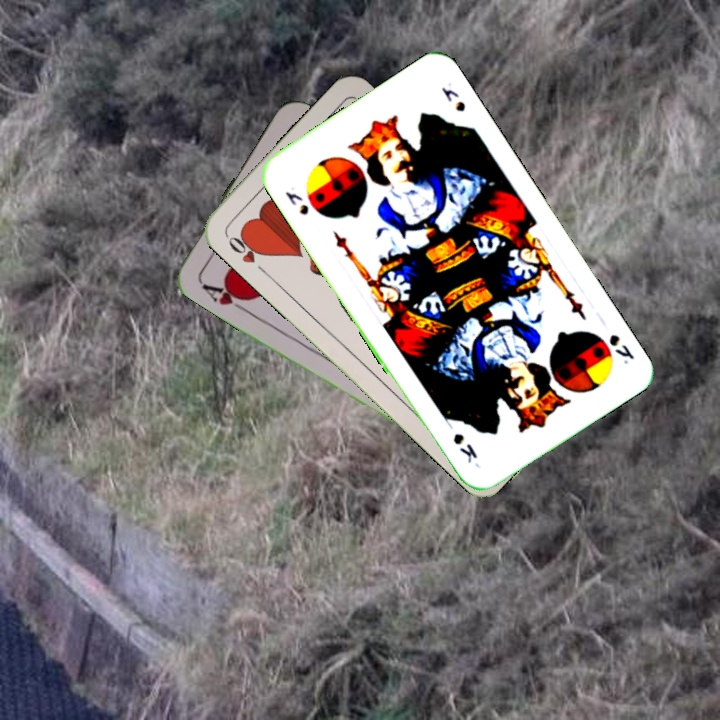HA: (196, 276, 252, 314)
HO: (223, 228, 270, 277)
SK: (605, 330, 637, 368), (281, 182, 312, 218)
